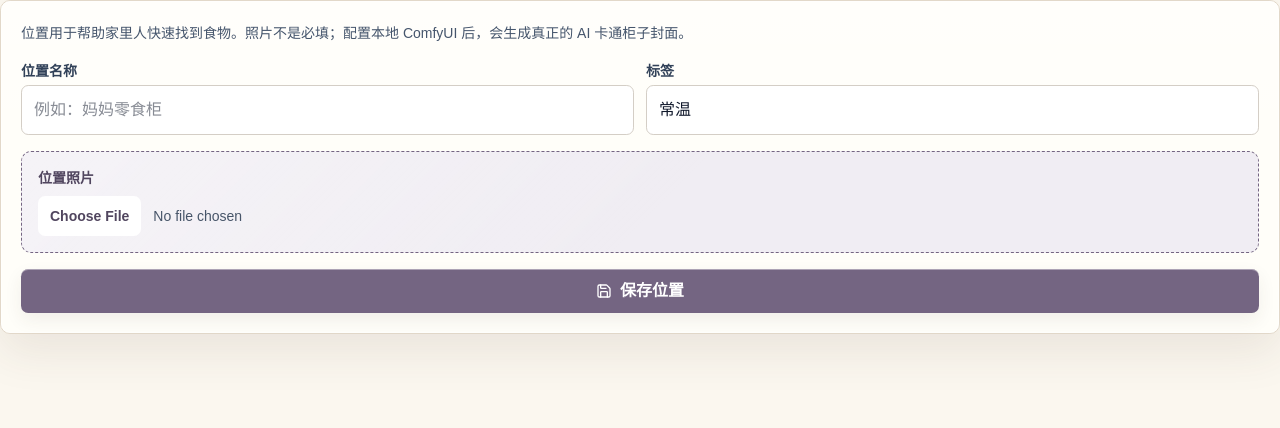
Test: CreateLocationForm › requires a user-defined location name before saving
The image size is (1280, 428).
Click the button "保存位置" at (640, 291), box [21, 269, 1259, 313]
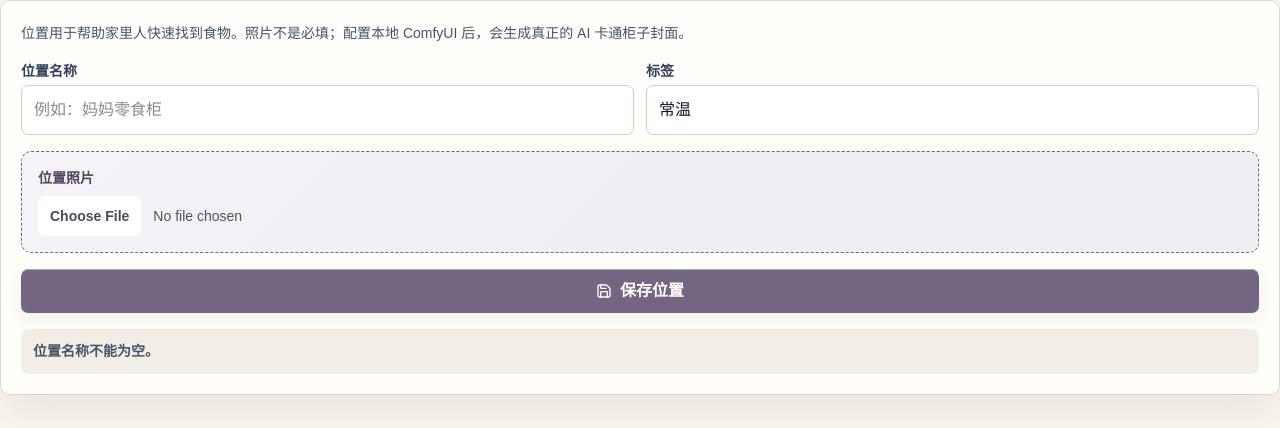
expect the text "位置名称不能为空。" is shown: met, box [21, 329, 1259, 374]
